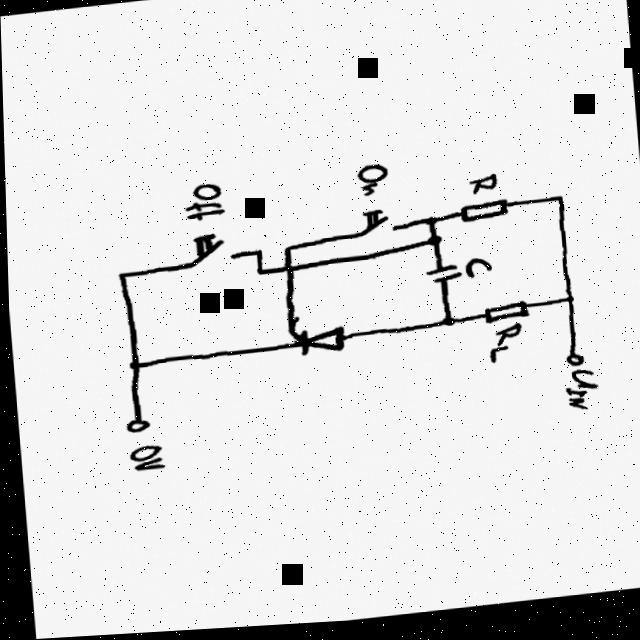capacitor: (423, 265, 460, 296)
crossover: (281, 268, 293, 278)
junction: (425, 240, 440, 252), (438, 322, 454, 333), (422, 221, 437, 232), (124, 362, 139, 373), (279, 247, 292, 257), (114, 273, 126, 283), (251, 251, 262, 261), (561, 302, 573, 311), (252, 271, 264, 280), (553, 201, 562, 210)
resistor: (456, 205, 508, 230), (480, 306, 528, 331)
switch: (166, 231, 245, 273), (345, 212, 406, 244)
terminal: (122, 419, 148, 435), (562, 360, 582, 375)
text: (181, 185, 223, 225), (561, 375, 597, 419), (484, 329, 522, 370), (354, 168, 388, 203), (126, 446, 161, 474), (466, 179, 497, 202), (462, 262, 490, 285)
thyristor: (284, 330, 345, 360)
